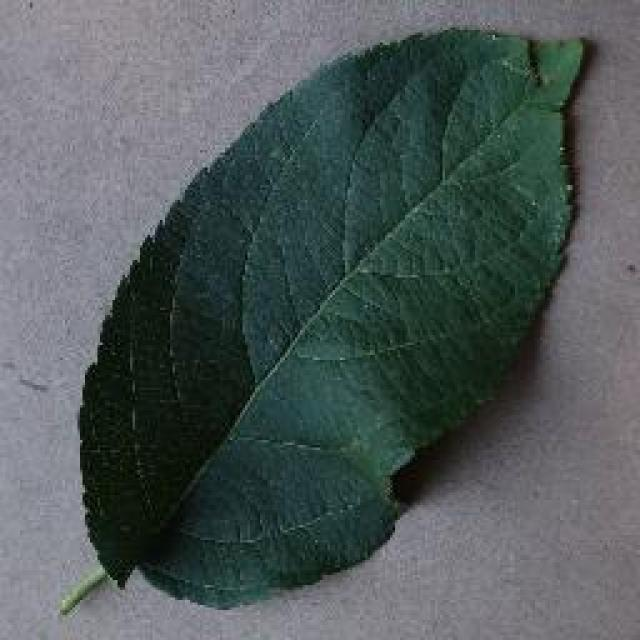apple healthy: (58, 23, 592, 615)
